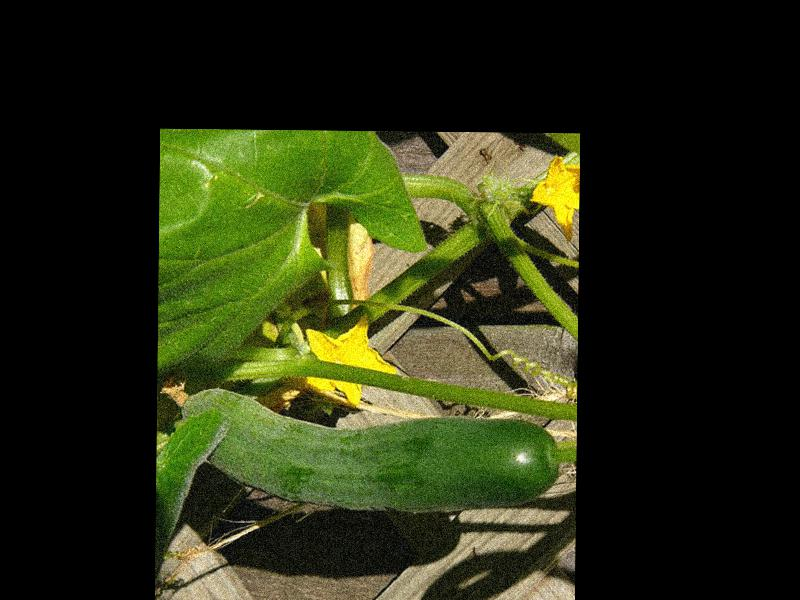Cucumber: (159, 387, 556, 515)
